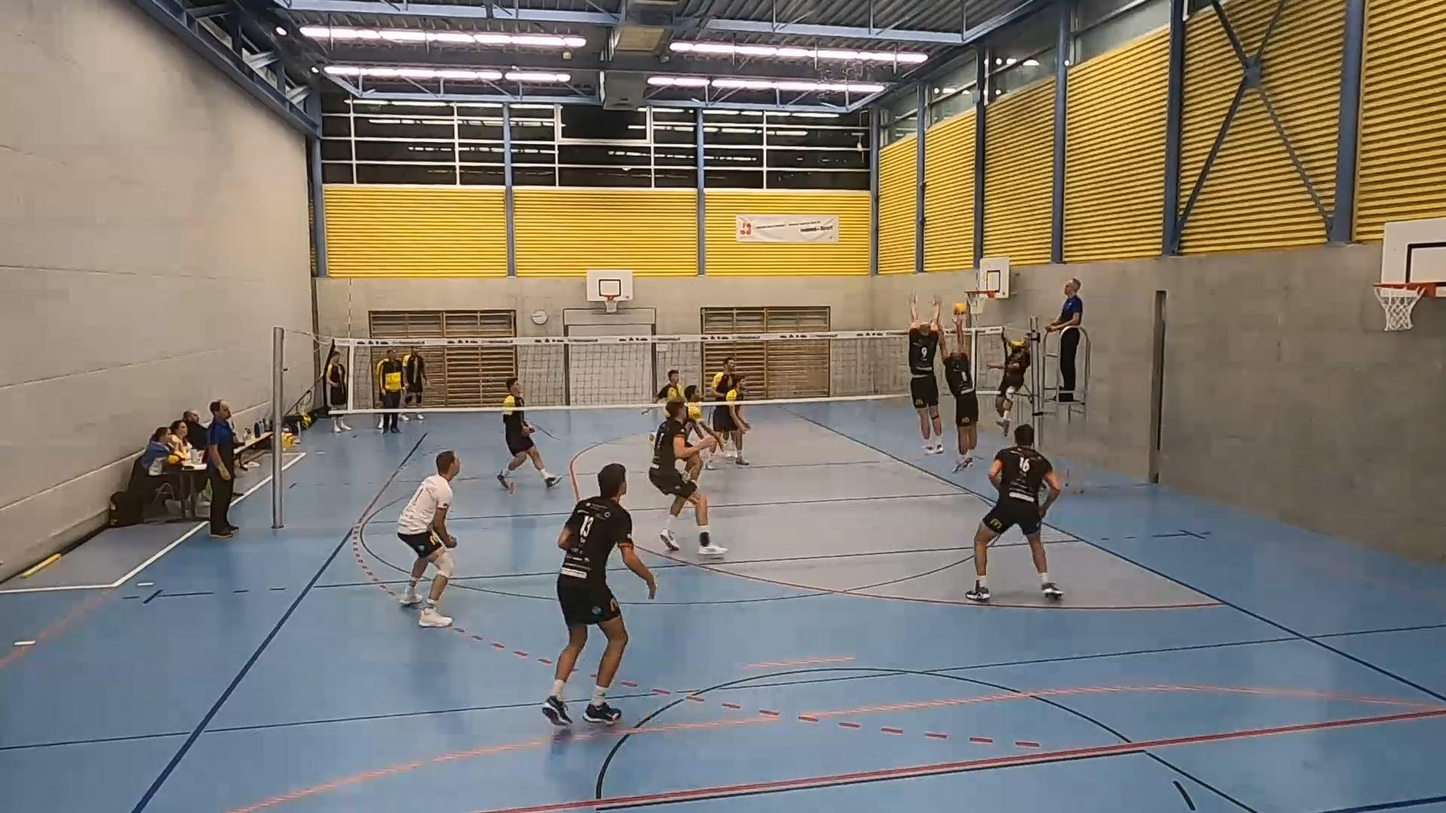Attack: (992, 312, 1039, 443)
Block: (937, 313, 983, 474), (908, 298, 946, 474)
Player: (542, 464, 655, 726), (966, 425, 1062, 601), (648, 402, 726, 555), (397, 451, 460, 626), (497, 377, 561, 491), (713, 374, 750, 464), (685, 385, 718, 480), (654, 369, 683, 405), (718, 434, 735, 458)
